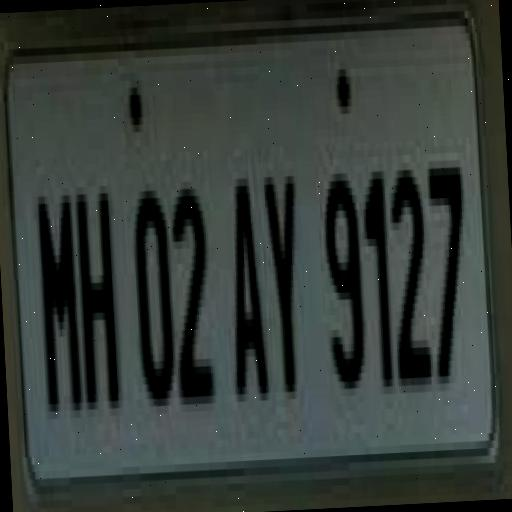number plate: (0, 3, 495, 502)
